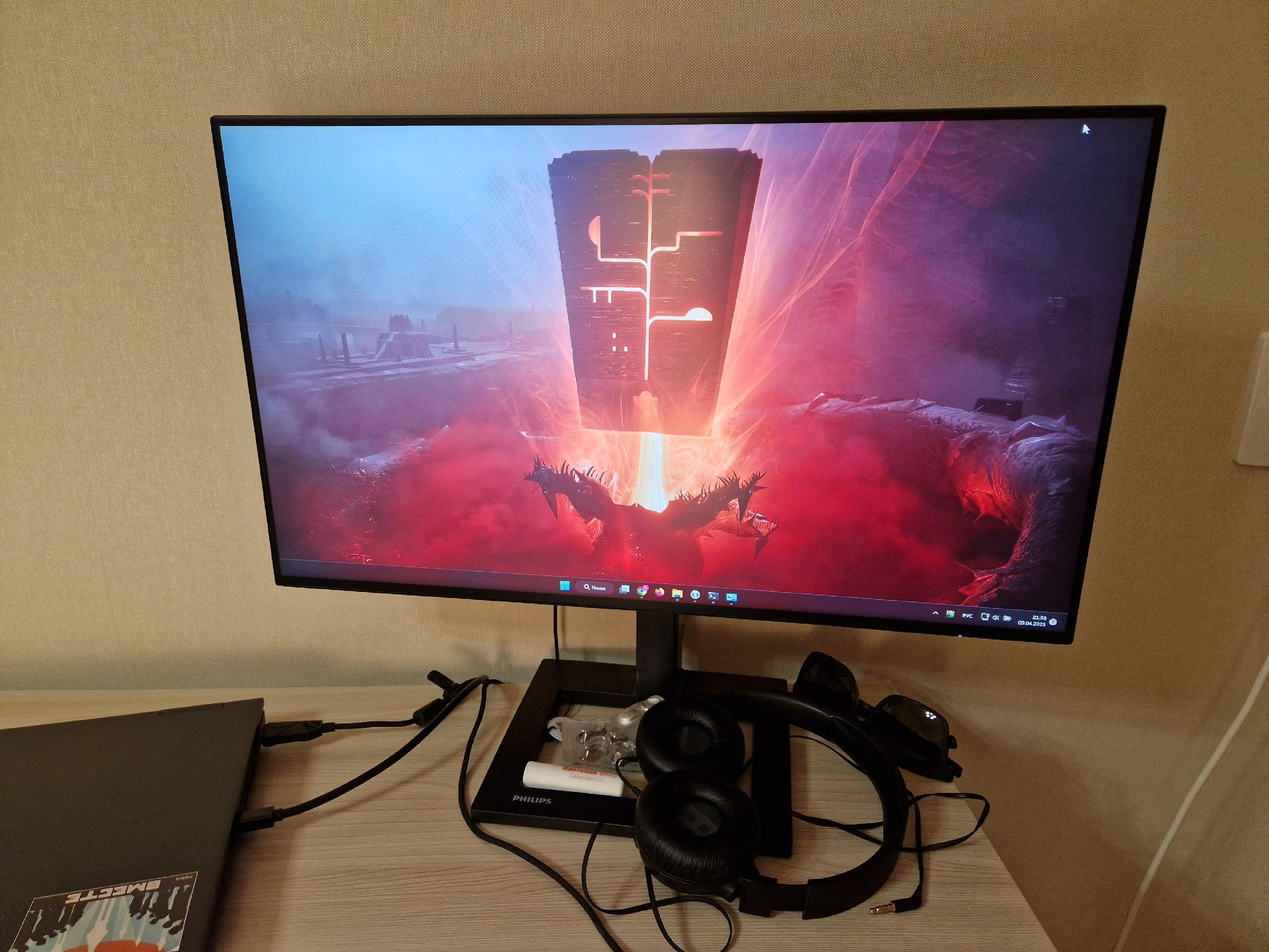monitor: (205, 99, 1168, 653)
